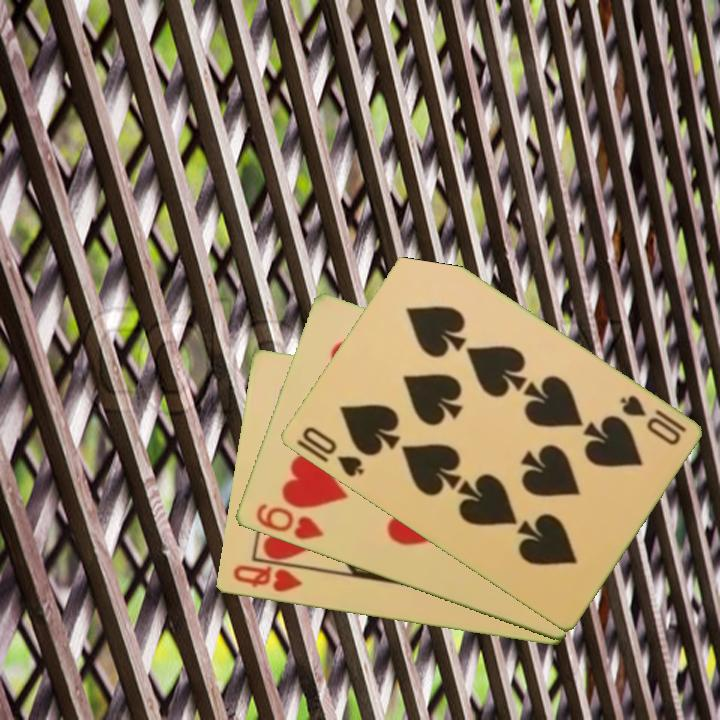10s: (615, 391, 689, 449), (298, 423, 367, 480)
6h: (251, 500, 326, 543)
Qh: (229, 562, 305, 595)
